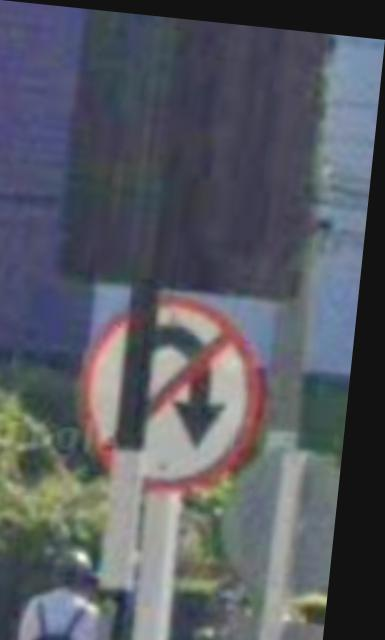not_u_turn_right: (79, 286, 280, 494)
